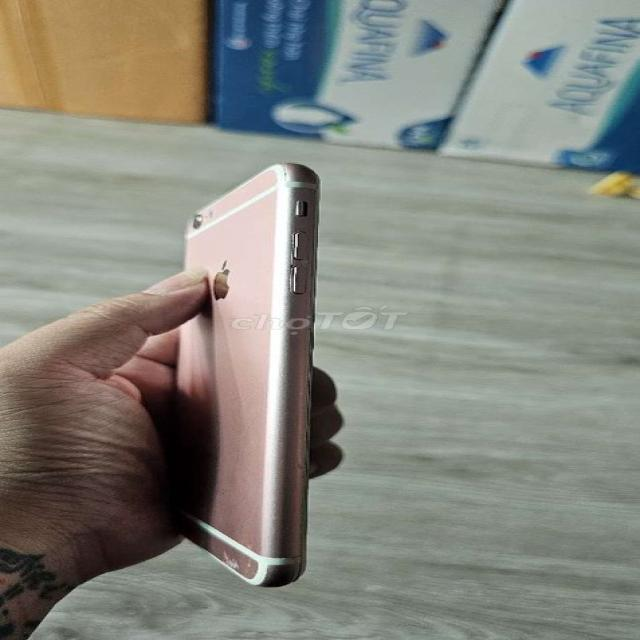scratch: (208, 527, 302, 590), (274, 222, 324, 299)
